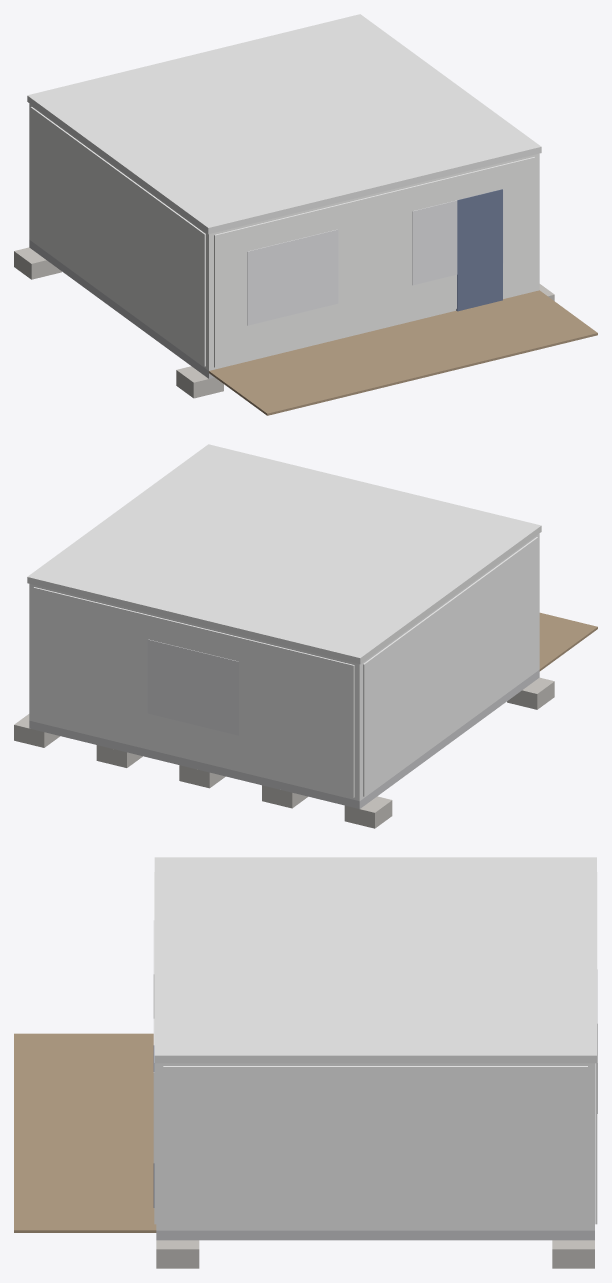
Rendered from Studio-20-Premium+TerraceDeck-LOD2.glb.
3 renders of one model, top to bottom at view 1: azimuth 30°, elevation 25°; view 2: azimuth 150°, elevation 25°; view 3: azimuth 270°, elevation 25°, orthographic. The views are drawn at different scales.
Parts seen in each view (by area): view 1: RoofMain, ExteriorPanelsPremium, TerraceDeck, WindowsLargeUpgrade, EntryDoor, ExteriorShell, FoundationBlocks, BaseFrame; view 2: RoofMain, ExteriorPanelsPremium, WindowsLargeUpgrade, FoundationBlocks, ExteriorShell, BaseFrame, TerraceDeck; view 3: RoofMain, ExteriorPanelsPremium, TerraceDeck, ExteriorShell, BaseFrame, FoundationBlocks, WindowsLargeUpgrade.
Part boxes in pixels (<box>): RoofMain: <box>27,14,541,234</box>; ExteriorPanelsPremium: <box>30,107,535,367</box>; TerraceDeck: <box>209,290,597,415</box>; WindowsLargeUpgrade: <box>247,189,503,325</box>; EntryDoor: <box>456,189,502,311</box>; ExteriorShell: <box>29,103,539,370</box>; FoundationBlocks: <box>14,247,554,398</box>; BaseFrame: <box>29,240,214,378</box>; RoofMain: <box>27,444,541,664</box>; ExteriorPanelsPremium: <box>33,537,538,797</box>; WindowsLargeUpgrade: <box>147,639,238,735</box>; FoundationBlocks: <box>14,677,554,828</box>; ExteriorShell: <box>29,533,539,801</box>; BaseFrame: <box>29,670,539,808</box>; TerraceDeck: <box>539,612,597,671</box>; RoofMain: <box>154,857,596,1063</box>; ExteriorPanelsPremium: <box>154,872,597,1228</box>; TerraceDeck: <box>14,1033,156,1232</box>; ExteriorShell: <box>156,1063,594,1230</box>; BaseFrame: <box>156,1230,594,1240</box>; FoundationBlocks: <box>156,1240,594,1268</box>; WindowsLargeUpgrade: <box>153,920,597,1162</box>.
Bounding box in the file's own units: 7.14 × 3.17 × 8.2.
